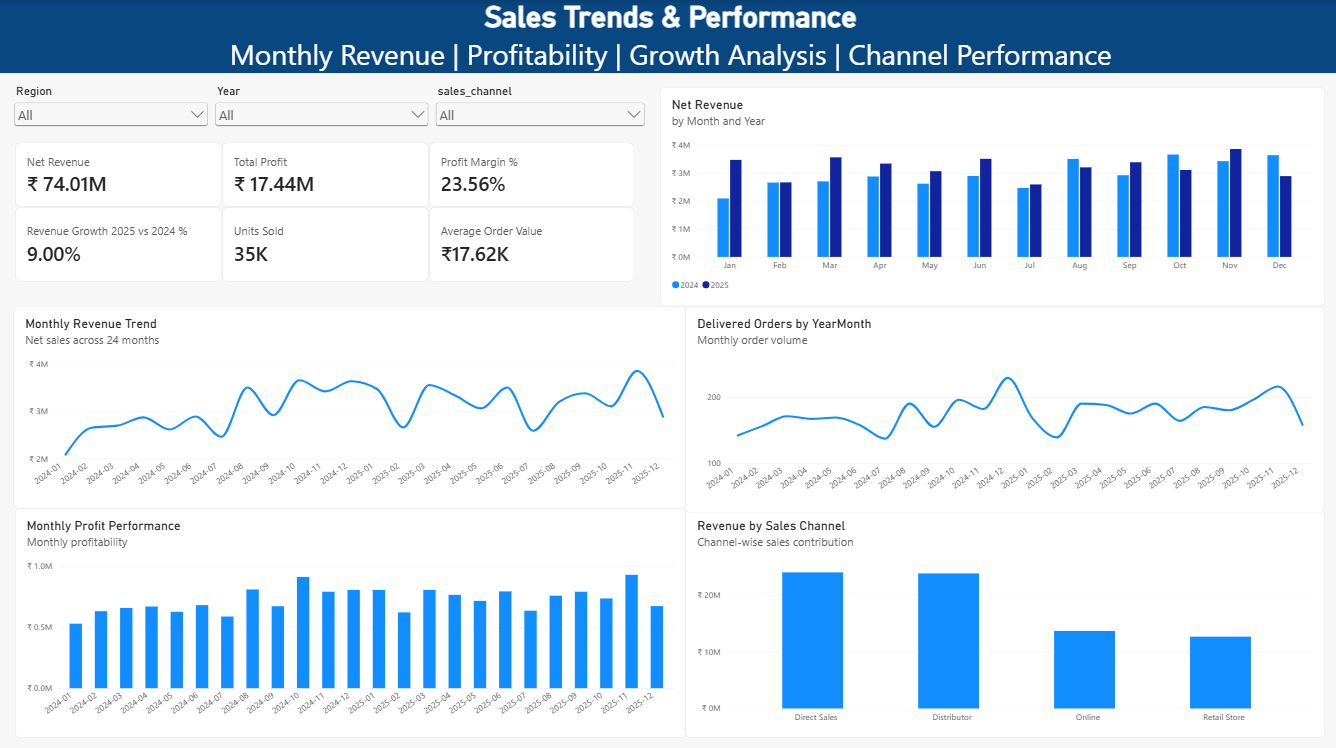

Layout of this report page (visuals, bound fields, positions):
{"tool":"powerbi","page":{"name":"Sales Trends & Performance","canvas":[1920,1080],"ordinal":1},"visuals":[{"type":"textbox","title":"Sales Trends & Performance","box":[0,0,1921.5,104.5],"z":0},{"type":"slicer","fields":{"Values":["DimRegion.Region"]},"box":[15,120.3,287.9,62.3],"z":1000},{"type":"slicer","fields":{"Values":["DimDate.Year"]},"box":[303,120.3,315.8,68.8],"z":2000},{"type":"slicer","fields":{"Values":["orders.sales_channel"]},"box":[618.8,120.3,309.4,68.8],"z":3000},{"type":"cardVisual","fields":{"Data":["_Measures.Net Revenue"]},"box":[21.5,204.1,296.5,92.4],"z":4000},{"type":"cardVisual","fields":{"Data":["_Measures.Total Profit"]},"box":[318,204.1,296.5,92.4],"z":5000},{"type":"cardVisual","fields":{"Data":["_Measures.Profit Margin %"]},"box":[614.5,204.1,294.4,92.4],"z":6000},{"type":"cardVisual","fields":{"Data":["_Measures.Revenue Growth 2025 vs 2024 %"]},"box":[21.5,296.5,296.5,107.4],"z":7000},{"type":"cardVisual","fields":{"Data":["_Measures.Units Sold"]},"box":[318,296.5,296.5,107.4],"z":8000},{"type":"cardVisual","fields":{"Data":["_Measures.Average Order Value"]},"box":[614.5,296.5,294.4,107.4],"z":9000},{"type":"lineChart","title":"Monthly Revenue Trend","fields":{"Category":["DimDate.YearMonth"],"Y":["_Measures.Net Revenue"]},"box":[19.3,438.3,962.6,290.1],"z":10000},{"type":"columnChart","title":"Monthly Profit Performance","fields":{"Category":["DimDate.YearMonth"],"Y":["_Measures.Total Profit"]},"box":[21.5,728.4,960.4,328.7],"z":11000},{"type":"clusteredColumnChart","title":"Revenue by Sales Channel","fields":{"Category":["orders.sales_channel"],"Y":["_Measures.Net Revenue"]},"box":[981.9,728.4,915.3,328.7],"z":12000},{"type":"lineChart","fields":{"Category":["DimDate.YearMonth"],"Y":["_Measures.Delivered Orders"]},"box":[981.9,438.3,915.3,296.5],"z":13000},{"type":"clusteredColumnChart","fields":{"Category":["DimDate.Month"],"Series":["DimDate.Year"],"Y":["_Measures.Net Revenue"]},"box":[945.4,124.6,951.8,313.7],"z":14000}]}

Visuals, with their boxes in screenshot pixels (x1, y1, x2, y2), scaled from the page's 1920x1080 canvas onto the 1336x748 screenshot:
"Sales Trends & Performance" textbox: l=0, t=0, r=1335, b=72
slicer - DimRegion.Region: l=10, t=83, r=211, b=126
slicer - DimDate.Year: l=211, t=83, r=431, b=131
slicer - orders.sales_channel: l=431, t=83, r=646, b=131
cardVisual - _Measures.Net Revenue: l=15, t=141, r=221, b=205
cardVisual - _Measures.Total Profit: l=221, t=141, r=428, b=205
cardVisual - _Measures.Profit Margin %: l=428, t=141, r=632, b=205
cardVisual - _Measures.Revenue Growth 2025 vs 2024 %: l=15, t=205, r=221, b=280
cardVisual - _Measures.Units Sold: l=221, t=205, r=428, b=280
cardVisual - _Measures.Average Order Value: l=428, t=205, r=632, b=280
"Monthly Revenue Trend" lineChart: l=13, t=304, r=683, b=504
"Monthly Profit Performance" columnChart: l=15, t=504, r=683, b=732
"Revenue by Sales Channel" clusteredColumnChart: l=683, t=504, r=1320, b=732
lineChart - DimDate.YearMonth x _Measures.Delivered Orders: l=683, t=304, r=1320, b=509
clusteredColumnChart - DimDate.Month x DimDate.Year: l=658, t=86, r=1320, b=304
